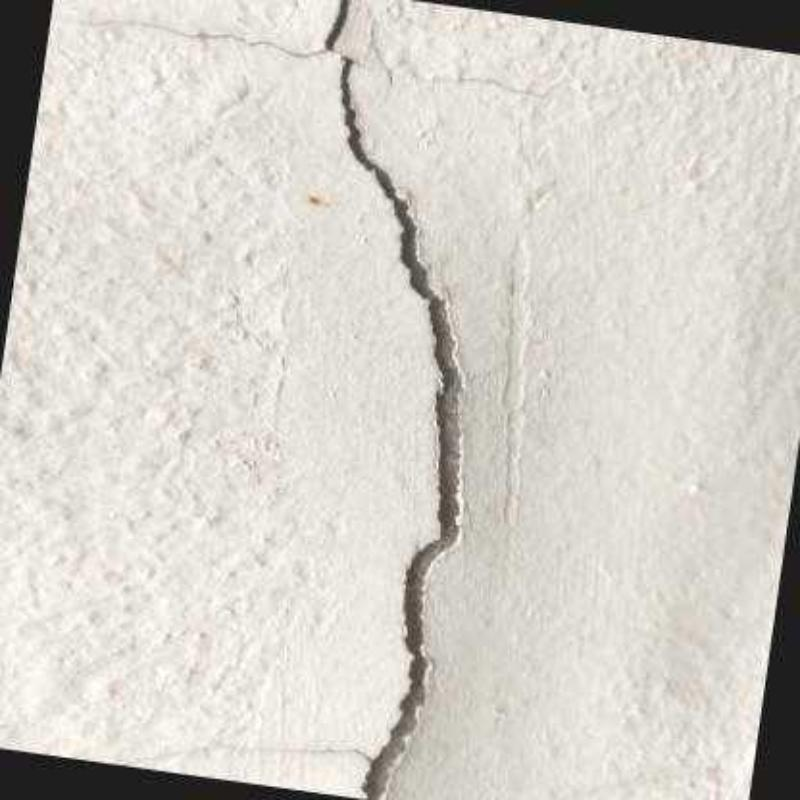pothole: (321, 0, 463, 798), (367, 25, 550, 102), (85, 19, 327, 58), (202, 742, 371, 762)
